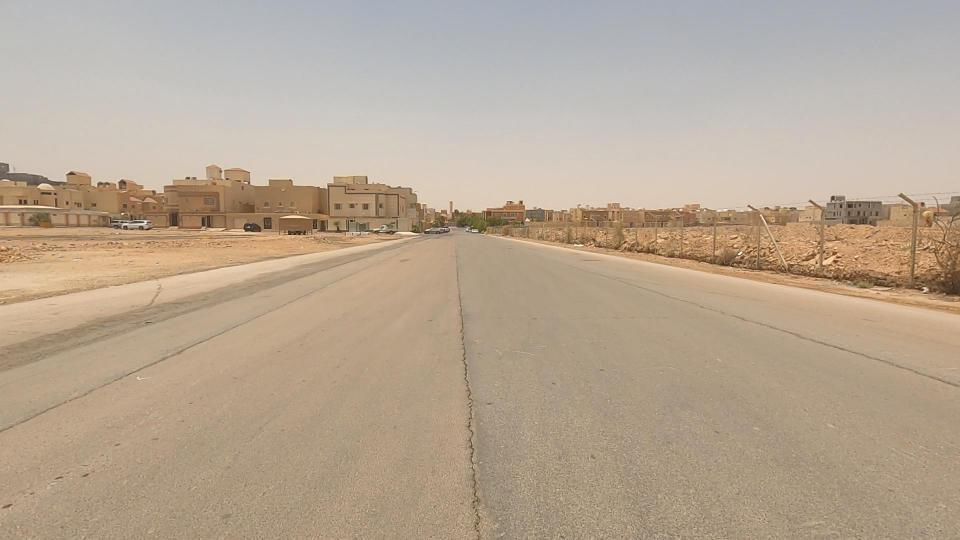GARBAGE: (547, 217, 606, 265)
